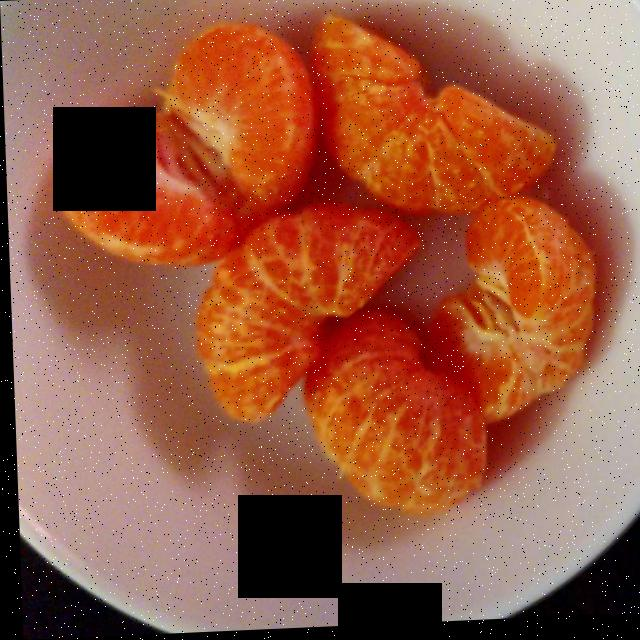mandarine: (60, 27, 571, 517)
